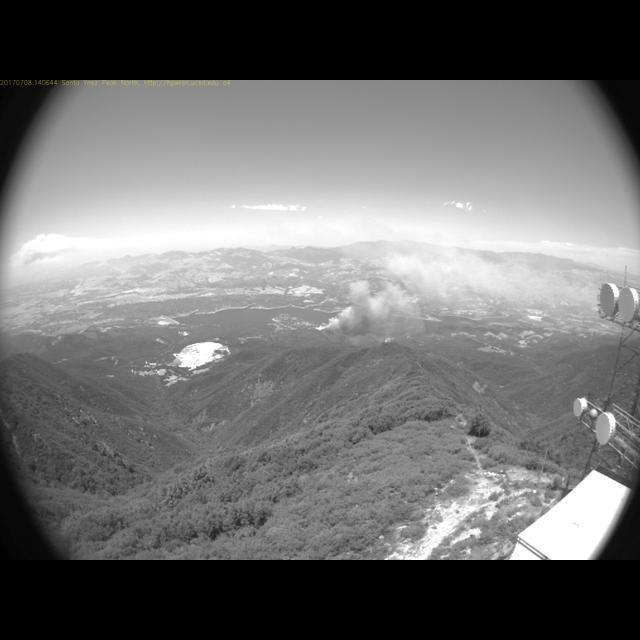Smoke: (314, 227, 554, 334)
